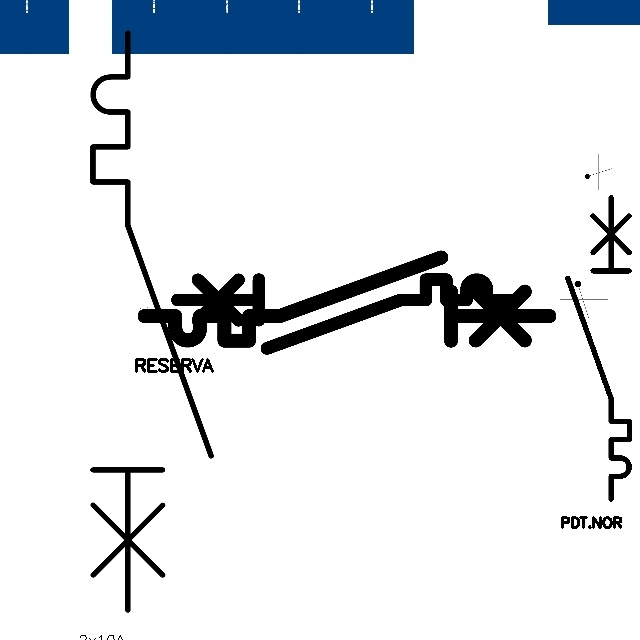interruptor_termomagnetico: (78, 18, 226, 625), (134, 247, 559, 351), (168, 271, 521, 357), (560, 189, 637, 506)
